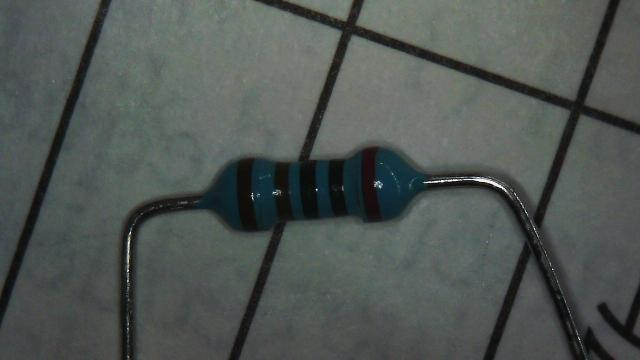black: (299, 160, 319, 219), (328, 159, 347, 216)
brown: (237, 161, 256, 230), (274, 162, 293, 221)
red: (361, 147, 382, 221)
resistor: (189, 112, 453, 258)
